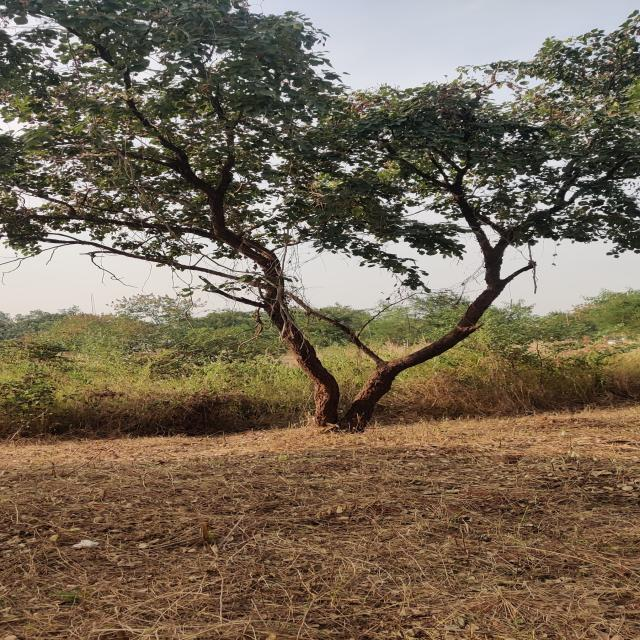Devakanchan tree: (45, 8, 620, 442)
